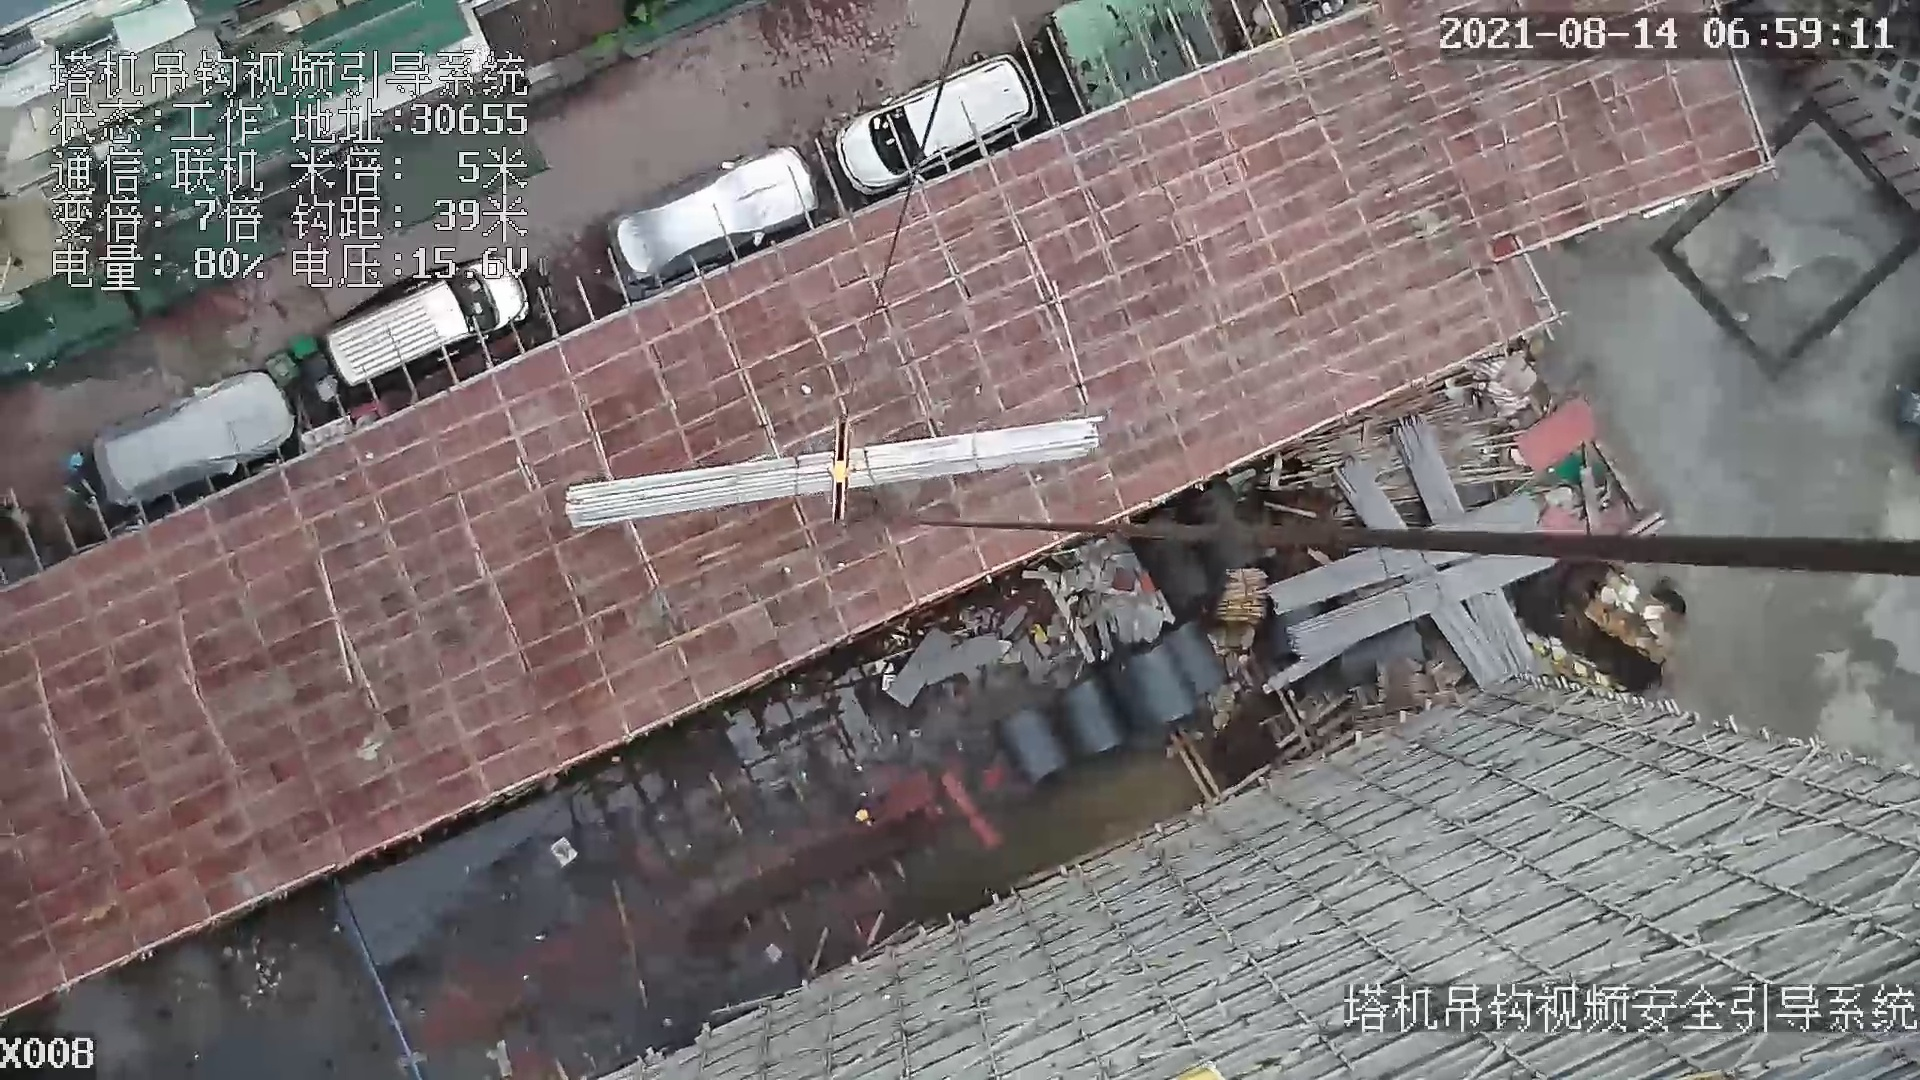hook: (825, 414, 855, 530)
rebar: (559, 414, 1102, 527), (1335, 458, 1505, 690), (1393, 413, 1532, 678), (1265, 487, 1536, 612), (1288, 556, 1556, 670)
wood: (1215, 568, 1265, 624)
